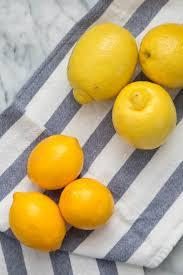lemon: (66, 23, 138, 105), (112, 81, 177, 150), (9, 191, 65, 252), (27, 134, 84, 189), (59, 178, 114, 229), (140, 24, 183, 88)
